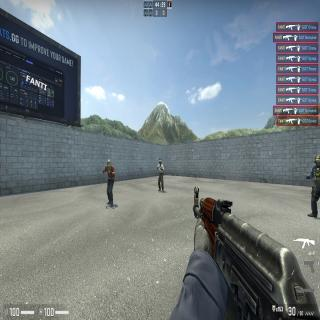CT-Body: (311, 153, 320, 218)
CT-Head: (314, 155, 320, 167)
T-Body: (104, 158, 116, 206), (157, 160, 164, 192)
T-Head: (106, 159, 110, 168), (159, 161, 162, 166)
